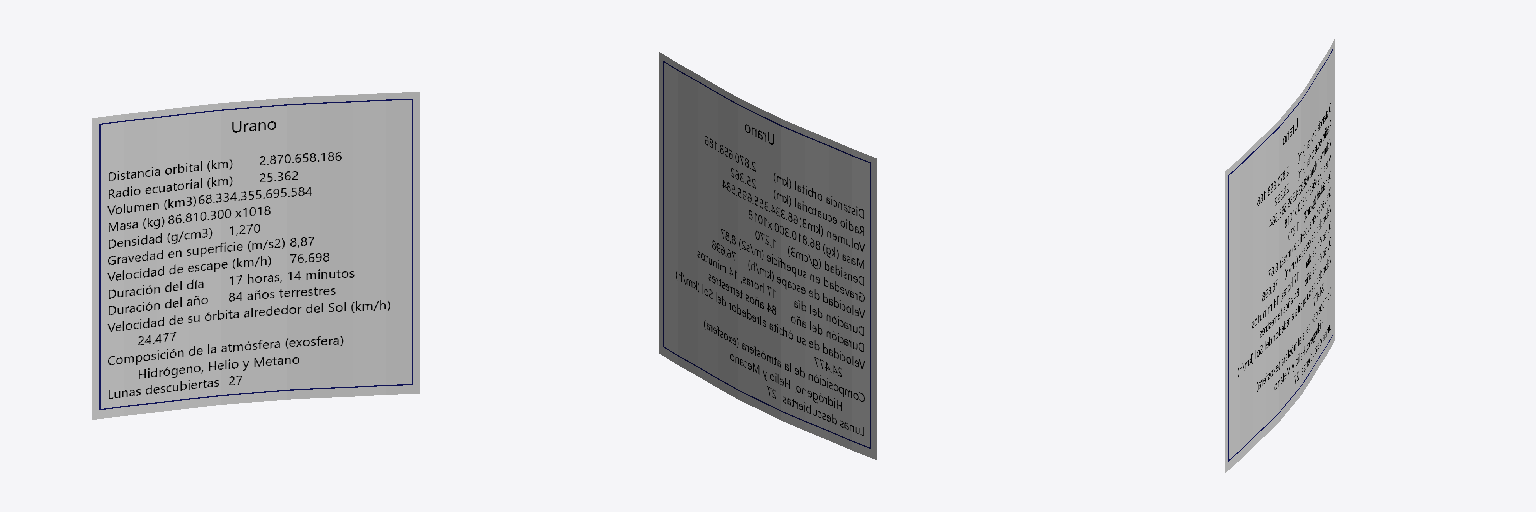
The picture shows the model from 3 angles: view 1: azimuth 30°, elevation 25°; view 2: azimuth 150°, elevation 25°; view 3: azimuth 270°, elevation 25°; orthographic projection.
Visible parts, largest first — view 1: pPlane1; view 2: pPlane1; view 3: pPlane1.
Boxes of the visible parts, box(x1,y1,x2,y2) form: pPlane1: box(92, 92, 419, 419); pPlane1: box(659, 52, 876, 459); pPlane1: box(1225, 39, 1334, 472).
Bounding box in the file's own units: 2.83 × 3 × 0.9887.
1 materials, 1 textured.